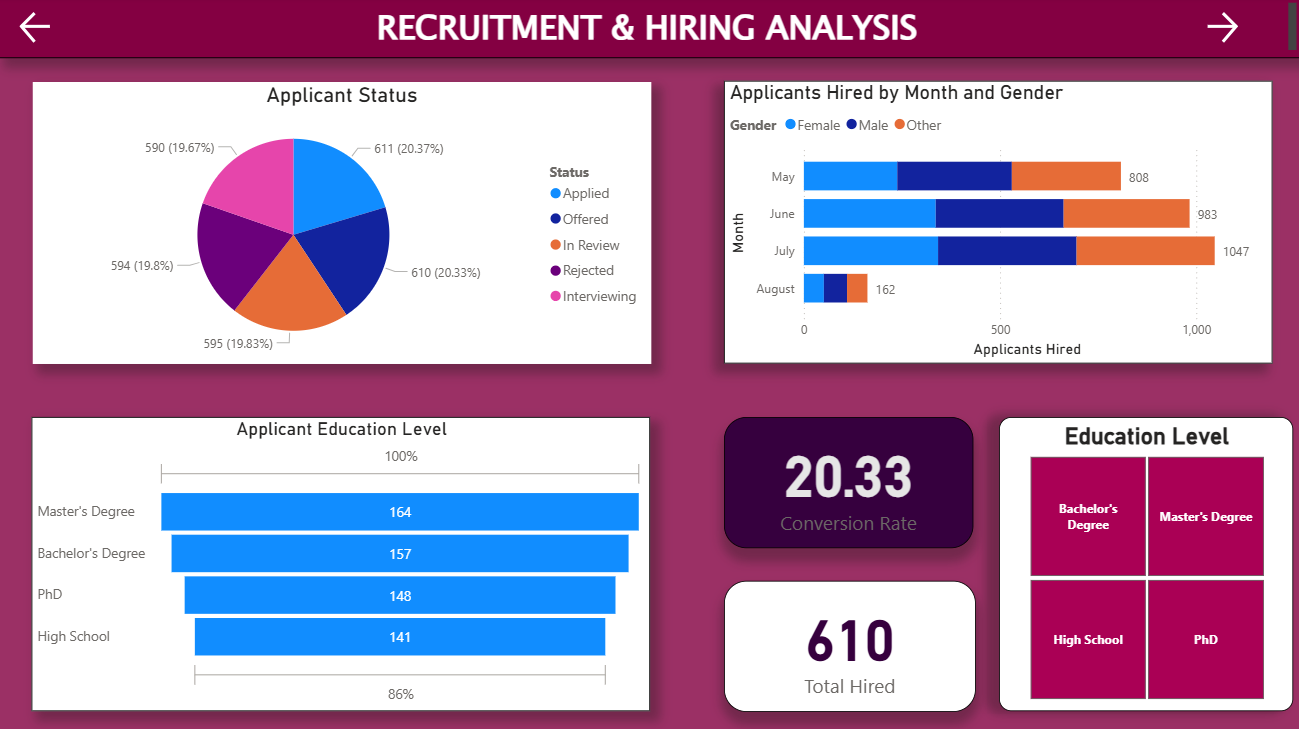

What the dashboard file says about the page in this screenshot:
{"tool":"powerbi","page":{"name":"Recruitment & Hiring Analysis","canvas":[1280,720],"ordinal":1},"visuals":[{"type":"funnel","title":"Applicant Education Level","fields":{"Category":["recruitment_data.Education Level","recruitment_data.Status"],"Y":["CountNonNull(recruitment_data.Applicant ID)"]},"box":[32.5,412.5,607.5,288.8],"z":0},{"type":"pieChart","title":"Applicant Status","fields":{"Category":["recruitment_data.Status"],"Y":["CountNonNull(recruitment_data.Applicant ID)"]},"box":[32.9,82.9,607.1,277.1],"z":1000},{"type":"barChart","fields":{"Category":["recruitment_data.Application Date.Variation.Date Hierarchy.Month"],"Y":["CountNonNull(recruitment_data.Applicant ID)"],"Series":["recruitment_data.Gender"]},"box":[711.2,82.5,538.8,277.5],"z":2000},{"type":"card","fields":{"Values":["recruitment_data.Conversion_Rate"]},"box":[711.2,412.5,245,128.8],"z":3000},{"type":"card","fields":{"Values":["recruitment_data.Hired_Count"]},"box":[711.2,572.5,247.5,128.8],"z":4000},{"type":"textbox","box":[0,0,1280,60],"z":5000},{"type":"actionButton","box":[1180,10,100,40],"z":6000},{"type":"actionButton","box":[16.2,10,100,40],"z":7000},{"type":"slicer","title":"Education Level","fields":{"Values":["recruitment_data.Education Level"]},"box":[981.2,412.5,288.8,288.8],"z":8000}]}

Visuals, with their boxes in screenshot pixels (x1, y1, x2, y2), scaled from the page's 1280x720 canvas onto the 1299x729 screenshot:
"Applicant Education Level" funnel: bbox(33, 418, 650, 710)
"Applicant Status" pieChart: bbox(33, 84, 650, 364)
barChart - recruitment_data.Application Date.Variation.Date Hierarchy.Month x CountNonNull(recruitment_data.Applicant ID): bbox(722, 84, 1269, 364)
card - recruitment_data.Conversion_Rate: bbox(722, 418, 970, 548)
card - recruitment_data.Hired_Count: bbox(722, 580, 973, 710)
textbox: bbox(0, 0, 1298, 61)
actionButton: bbox(1198, 10, 1298, 51)
actionButton: bbox(16, 10, 118, 51)
"Education Level" slicer: bbox(996, 418, 1289, 710)
